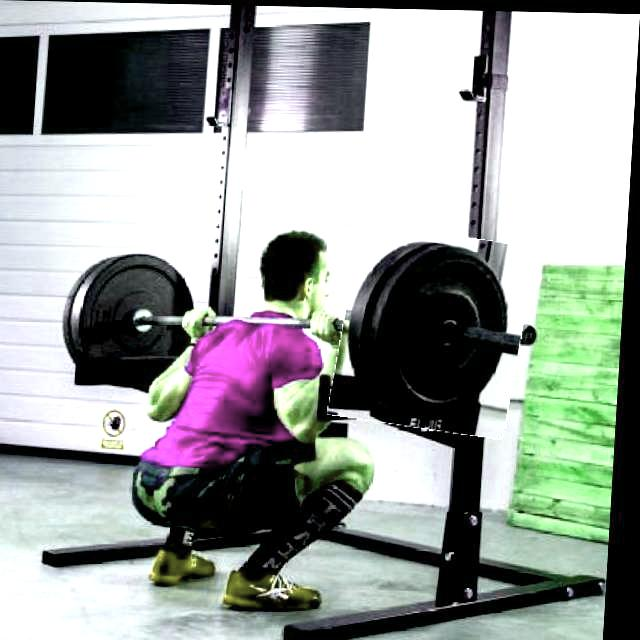barbell: (337, 227, 535, 434)
